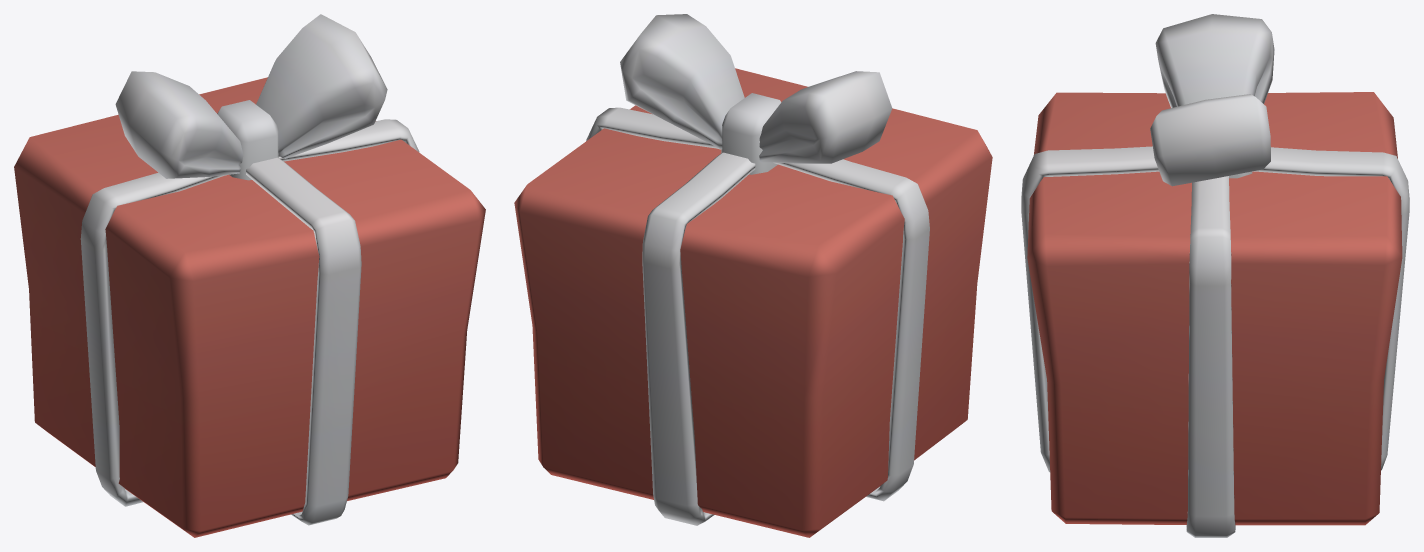
Rendered from CharSkyKid_Neck_PresentBodyB.glb.
3 views of the same model, side by side, from view 1: azimuth 30°, elevation 25°; view 2: azimuth 150°, elevation 25°; view 3: azimuth 270°, elevation 25° (orthographic).
Parts seen in each view (by area): view 1: CharSkyKid_Neck_PresentBodyB; view 2: CharSkyKid_Neck_PresentBodyB; view 3: CharSkyKid_Neck_PresentBodyB.
Part boxes in pixels (x1,y1,x2,y2): CharSkyKid_Neck_PresentBodyB: (14, 14, 485, 537); CharSkyKid_Neck_PresentBodyB: (514, 14, 992, 537); CharSkyKid_Neck_PresentBodyB: (1021, 14, 1409, 537).
Bounding box in the file's own units: 15.17 × 18.79 × 15.35.
Materials: 1 (1 with a texture image).
